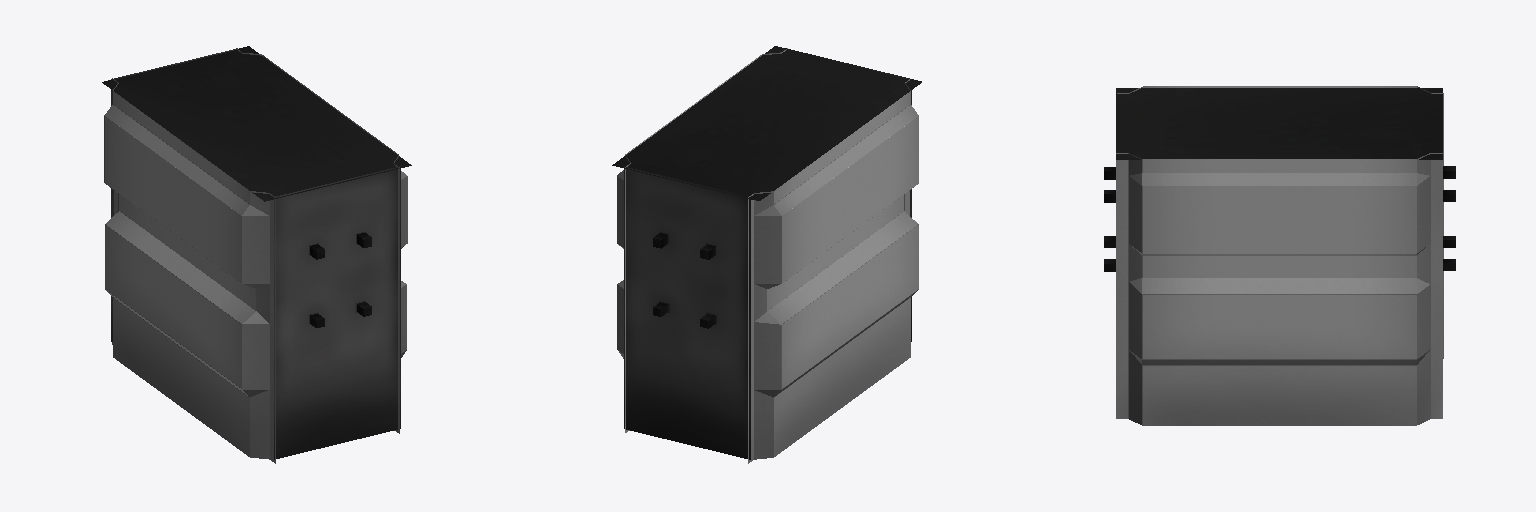
The picture shows the model from 3 angles: view 1: azimuth 30°, elevation 25°; view 2: azimuth 150°, elevation 25°; view 3: azimuth 270°, elevation 25°; orthographic projection.
Parts seen in each view (by area): view 1: 平面; view 2: 平面; view 3: 平面.
Part boxes in pixels (x1,y1,x2,y2): 平面: (102, 46, 411, 463); 平面: (612, 46, 921, 463); 平面: (1104, 86, 1455, 425).
Bounding box in the file's own units: 134 × 207 × 247.
Materials: 1 (1 with a texture image).